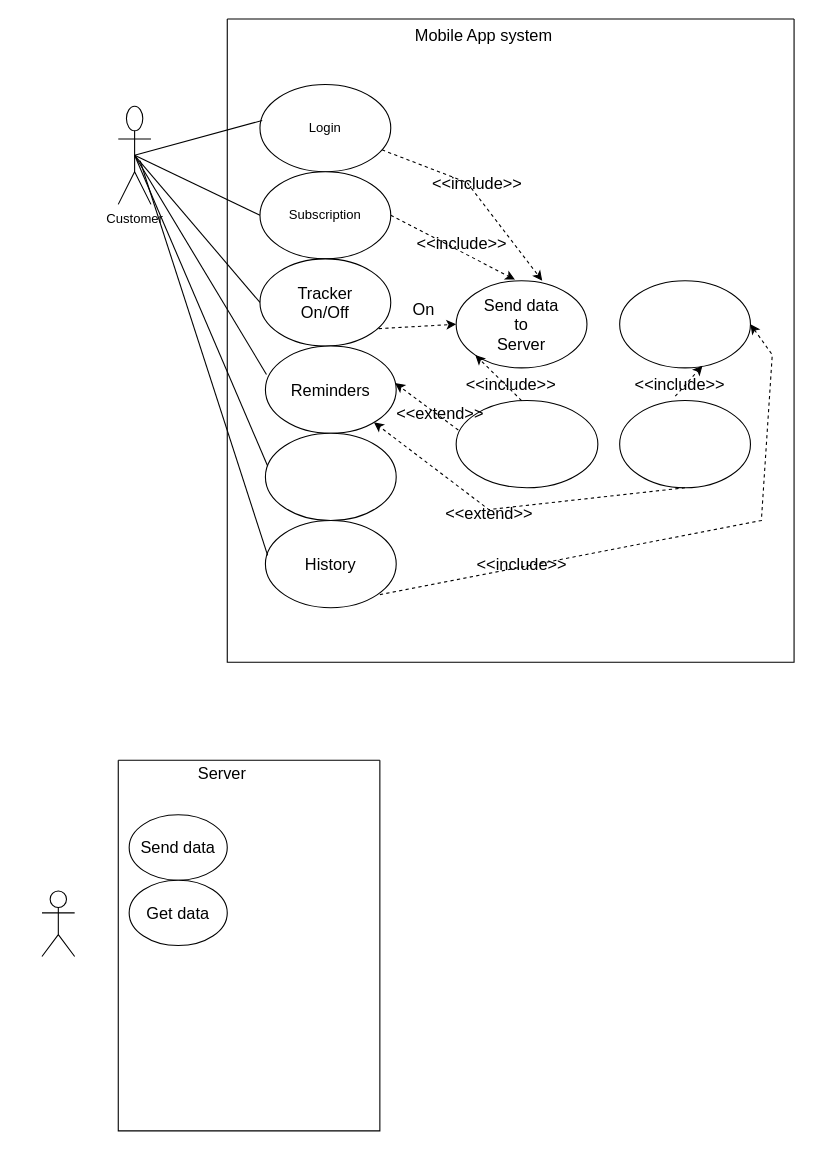
This 813x1150 diagram has some shape labels left out. Here are the shapes that lost their labels. From the top down, the centre of each, then its label:
At point 684,324: "Get data from Server".
At point 526,443: "Add/Modify/Delete Reminder".
At point 684,443: "Show Reminders".
At point 330,476: "Scan and Identify".
At point 58,923: "Mobile app".
